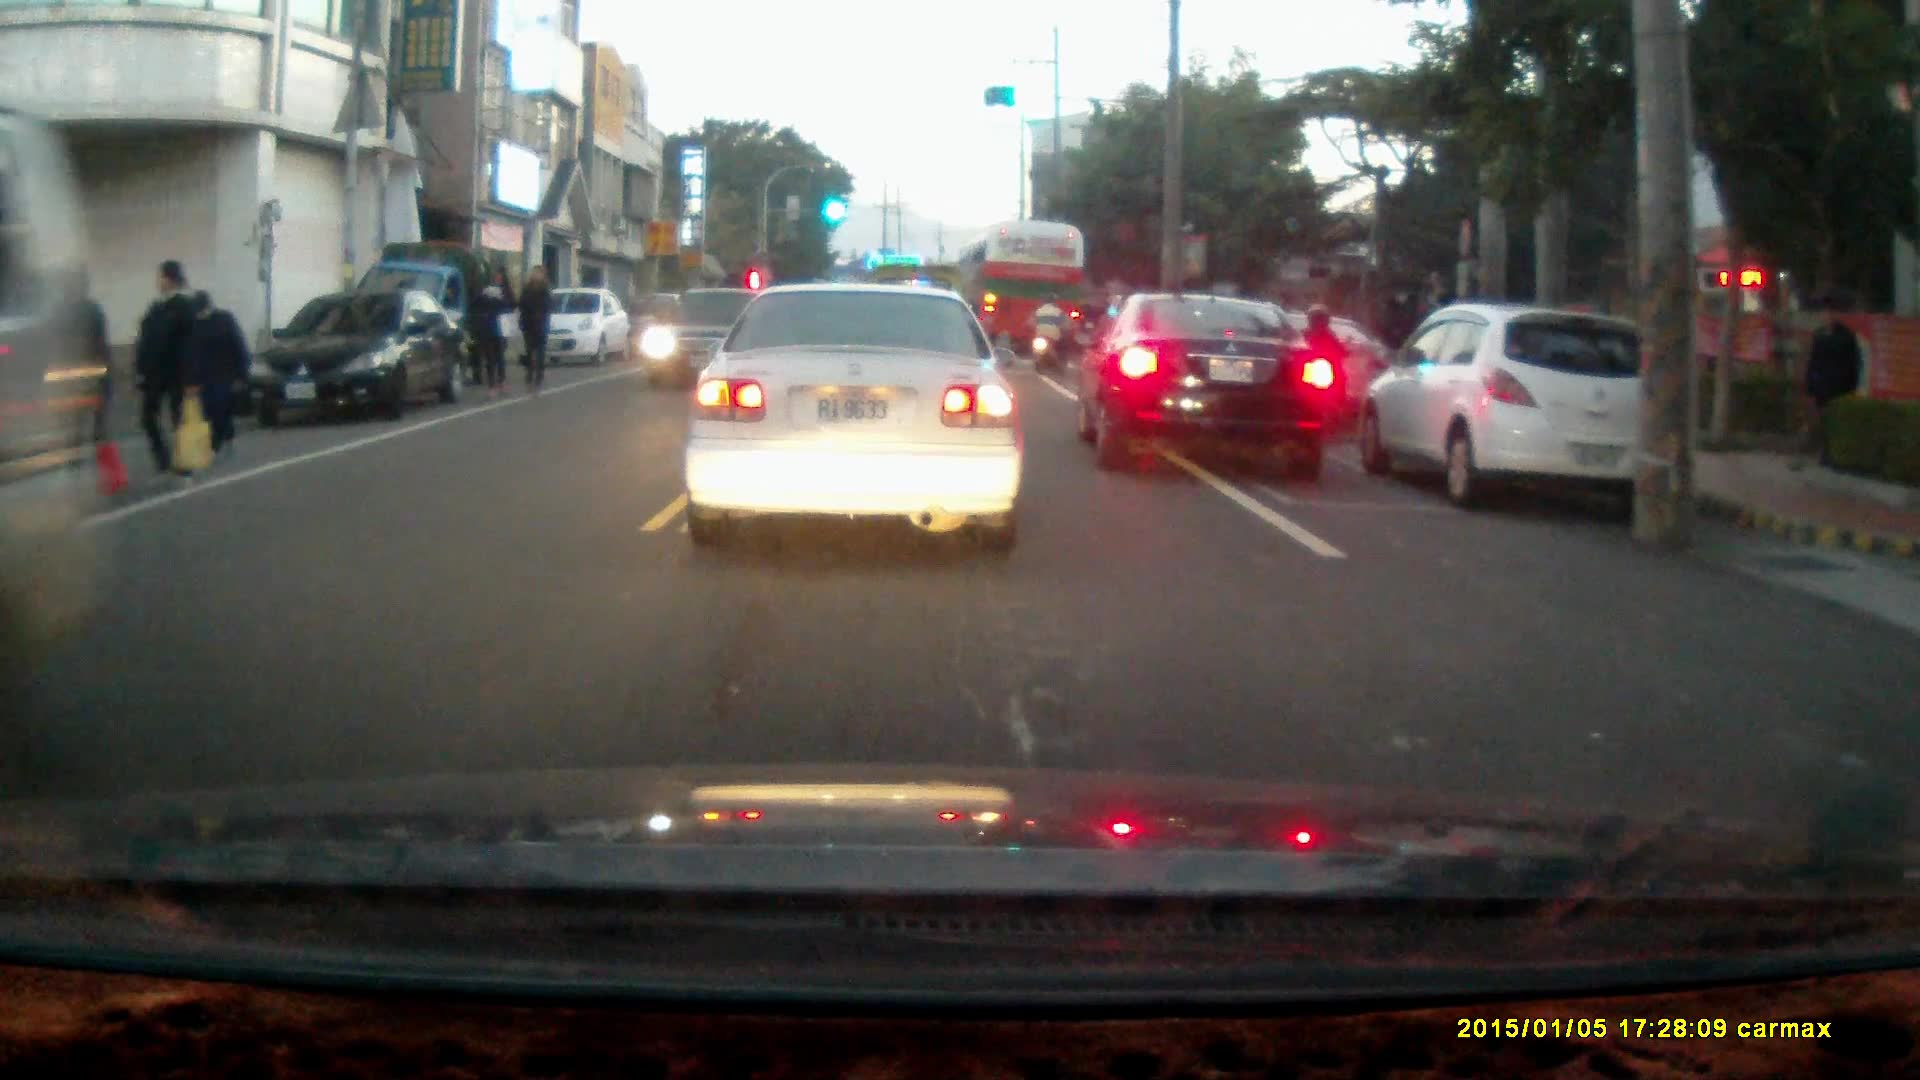pedestrian: (127, 256, 203, 491), (182, 290, 250, 470), (1801, 290, 1862, 467), (471, 265, 516, 402), (514, 260, 553, 400), (1388, 291, 1424, 378)
rider: (1297, 300, 1354, 447), (1028, 293, 1068, 374)
vehicle: (680, 282, 1028, 558), (1, 105, 117, 765), (1356, 298, 1685, 512), (1075, 293, 1327, 480), (254, 284, 465, 430), (355, 238, 512, 394), (961, 220, 1091, 366), (646, 280, 747, 387), (512, 285, 634, 365)
